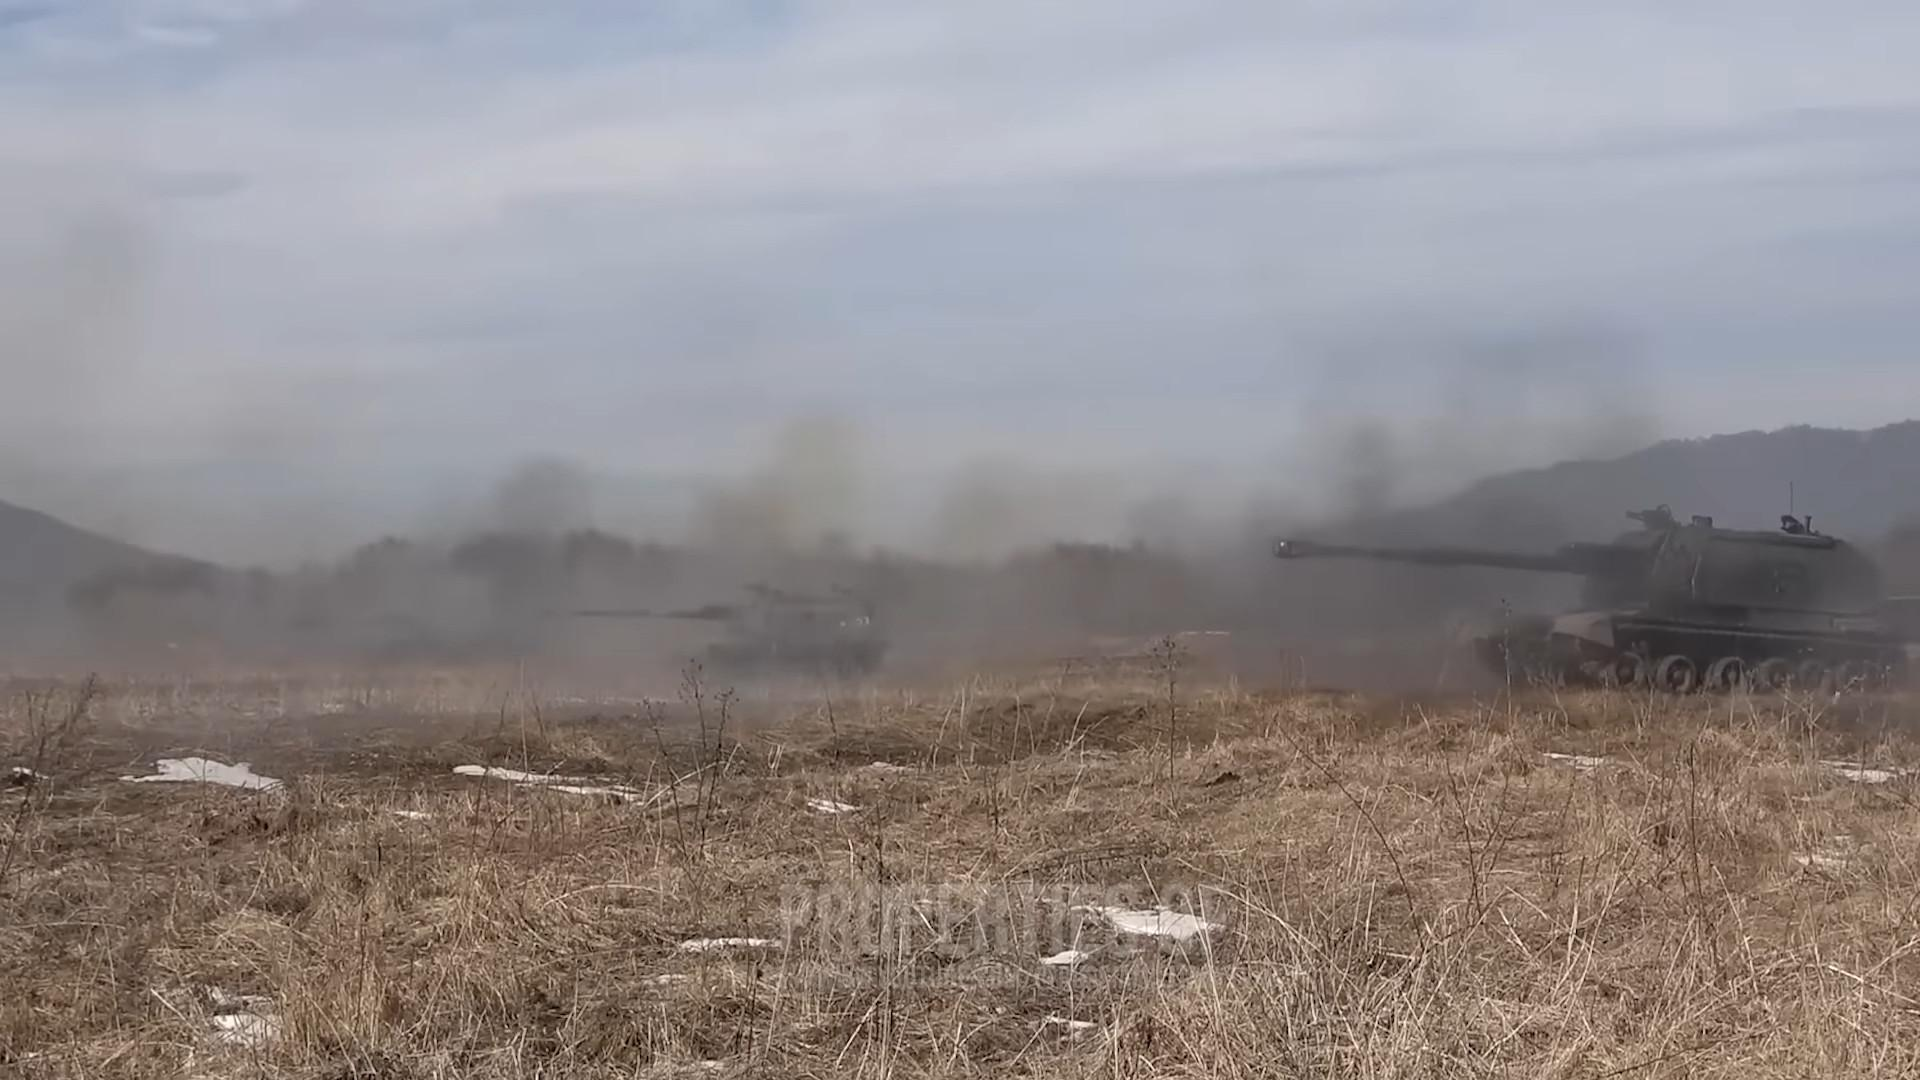tank: (1273, 505, 1908, 694)
